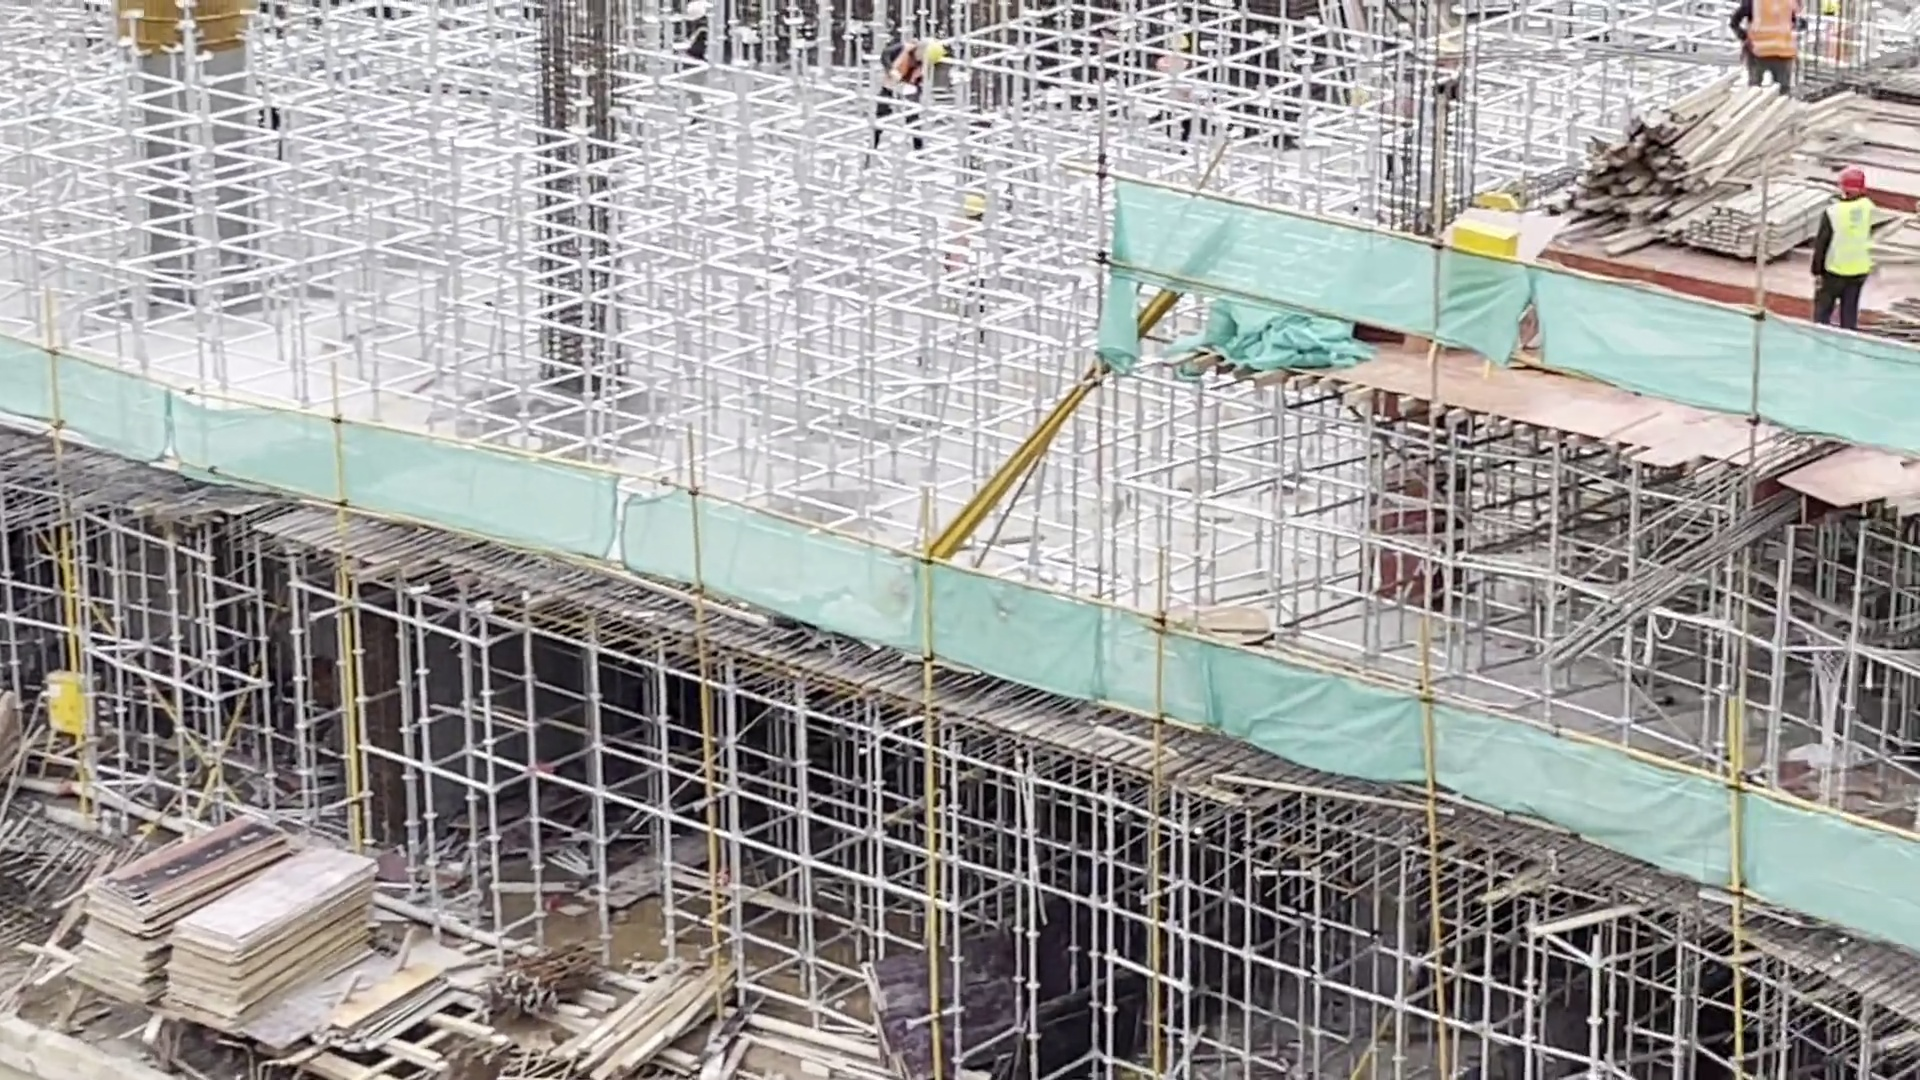board: (74, 813, 270, 980), (171, 853, 374, 1008)
ebox: (1447, 198, 1519, 313), (44, 668, 108, 745)
helmet: (1840, 165, 1867, 197)
person: (1808, 165, 1882, 338), (871, 30, 933, 164), (1729, 1, 1807, 101)
vest: (1823, 205, 1877, 280), (1747, 1, 1799, 61), (887, 54, 922, 103)
wood: (1532, 86, 1830, 223)
